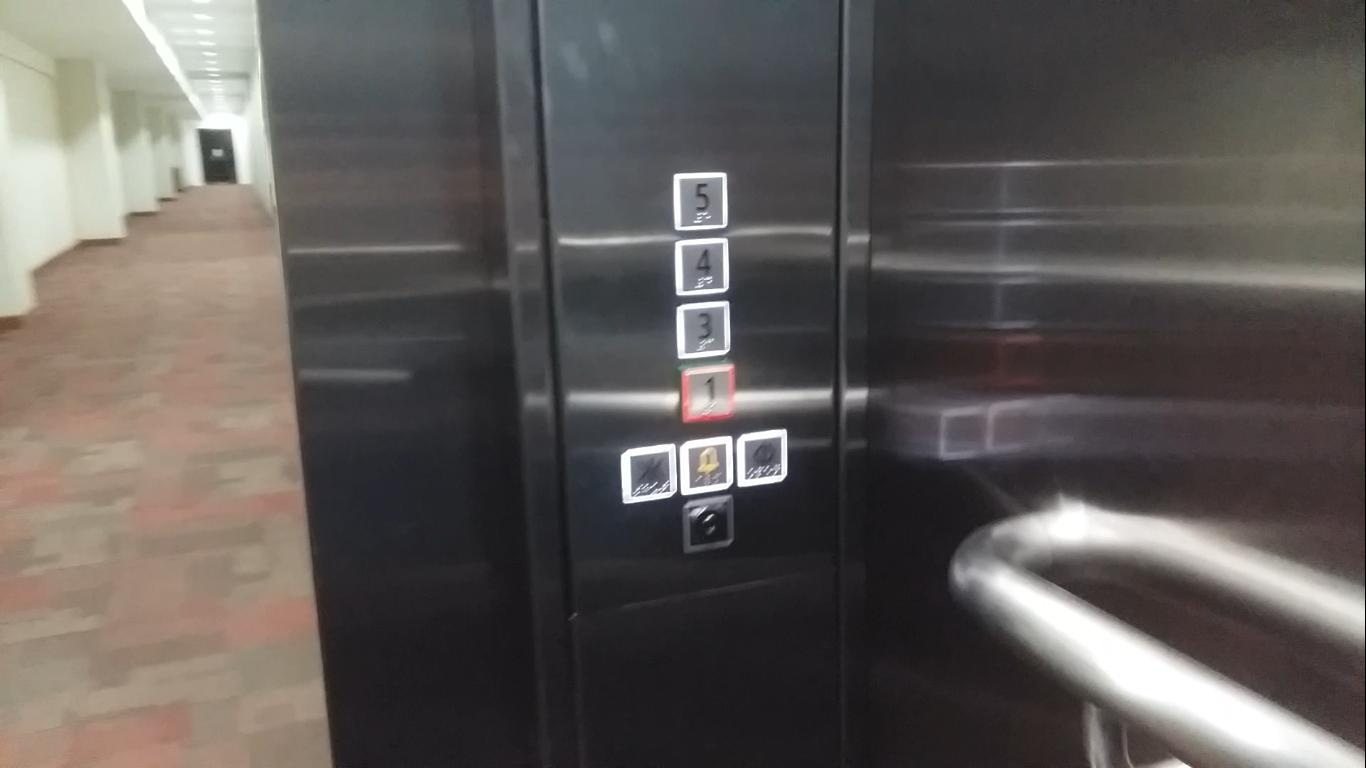1: (680, 365, 735, 423)
3: (675, 302, 730, 358)
4: (675, 238, 728, 295)
5: (673, 172, 727, 231)
alarm: (679, 436, 733, 495)
bt_keyhole: (682, 496, 734, 554)
open: (736, 430, 787, 488)
unknown: (619, 444, 677, 504)
